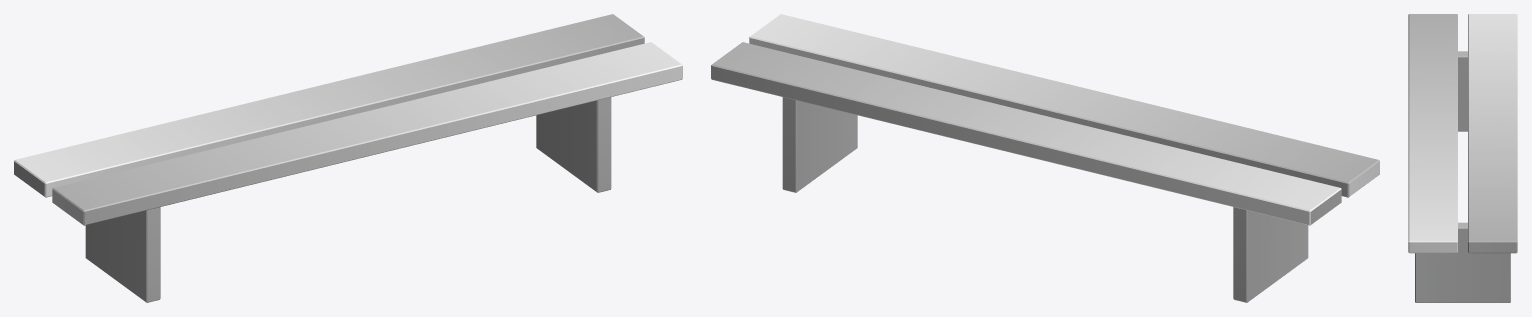
File: Bench.fbx
3 views of the same model, side by side, from view 1: azimuth 30°, elevation 25°; view 2: azimuth 150°, elevation 25°; view 3: azimuth 270°, elevation 25° (orthographic). The views are drawn at different scales.
Visible parts, largest first — view 1: Bench; view 2: Bench; view 3: Bench.
Boxes of the visible parts, left/top/right/bottom form: Bench: left=14, top=14, right=682, bottom=302; Bench: left=711, top=14, right=1379, bottom=302; Bench: left=1408, top=14, right=1517, bottom=302.
Size of the model in its own units: 399 by 71.33 by 80.83.
1 material, 1 textured.
